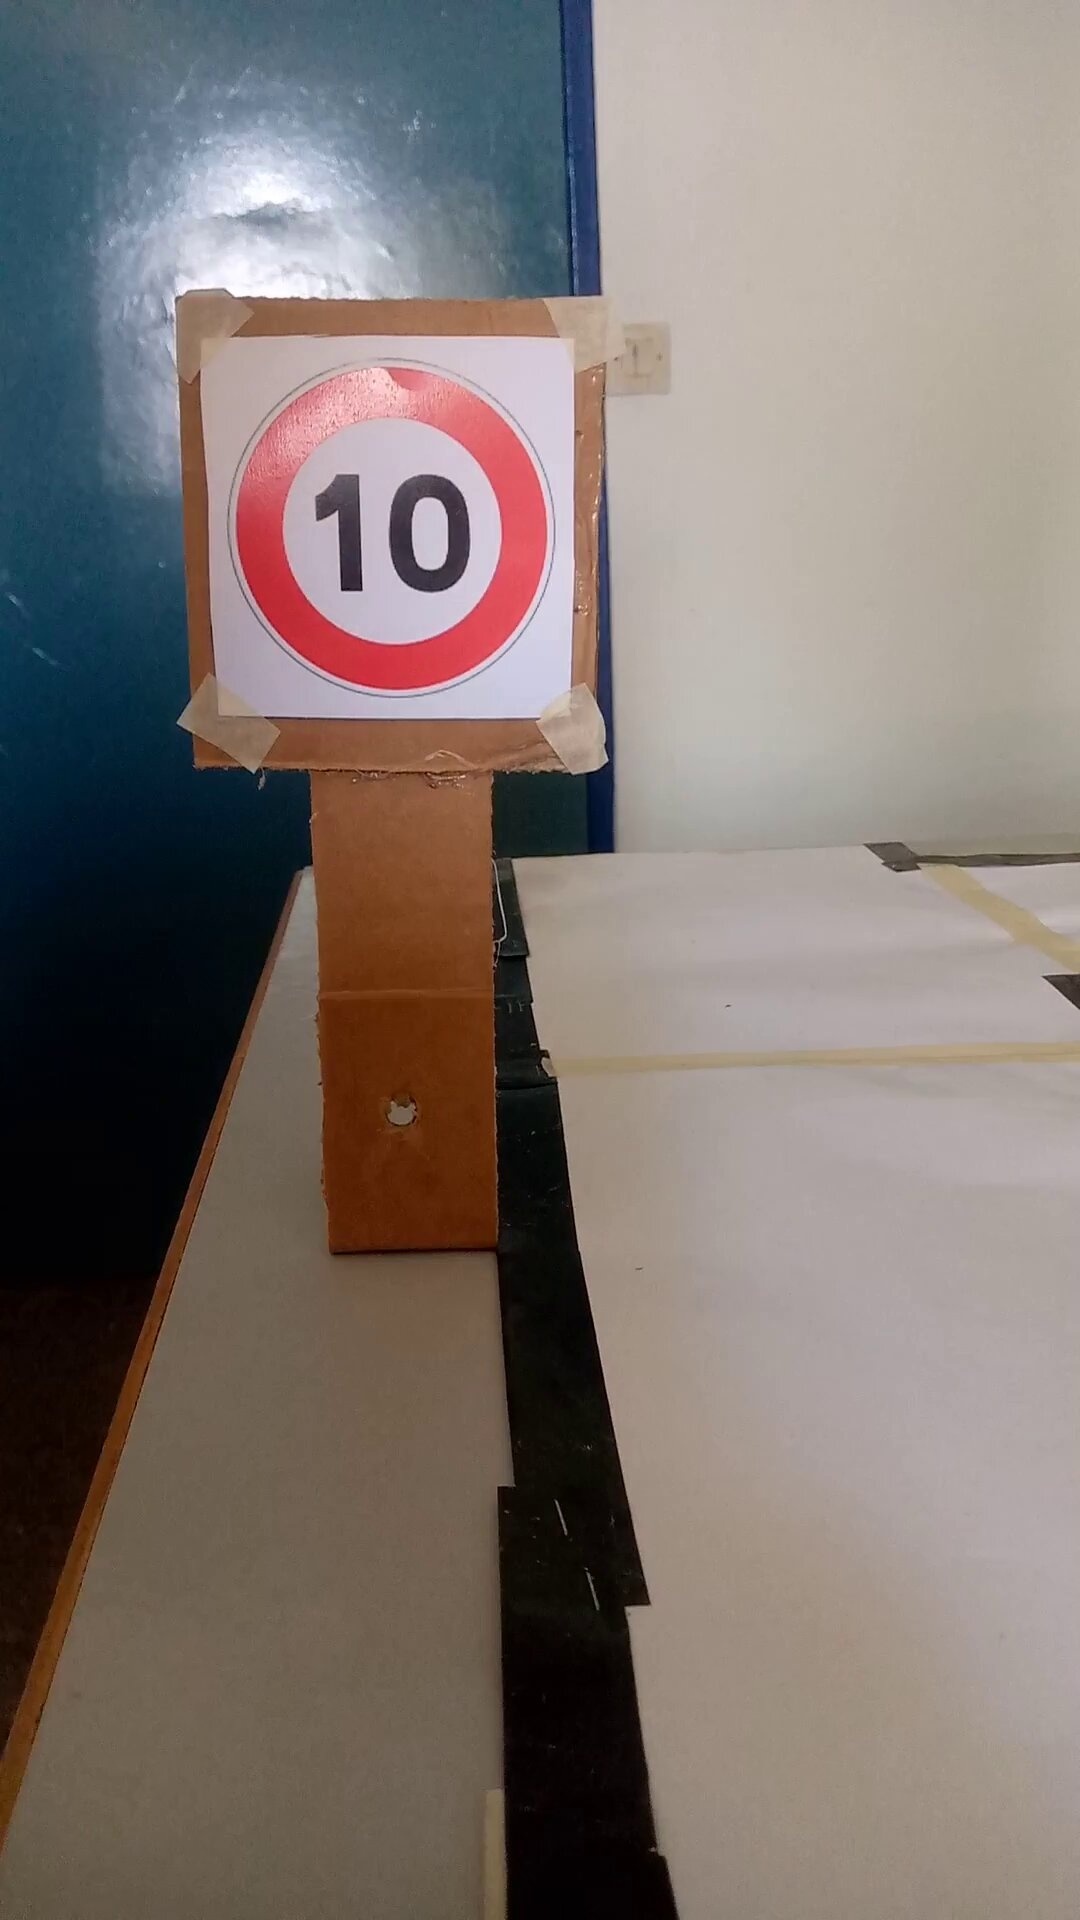panel011: (193, 328, 584, 735)
